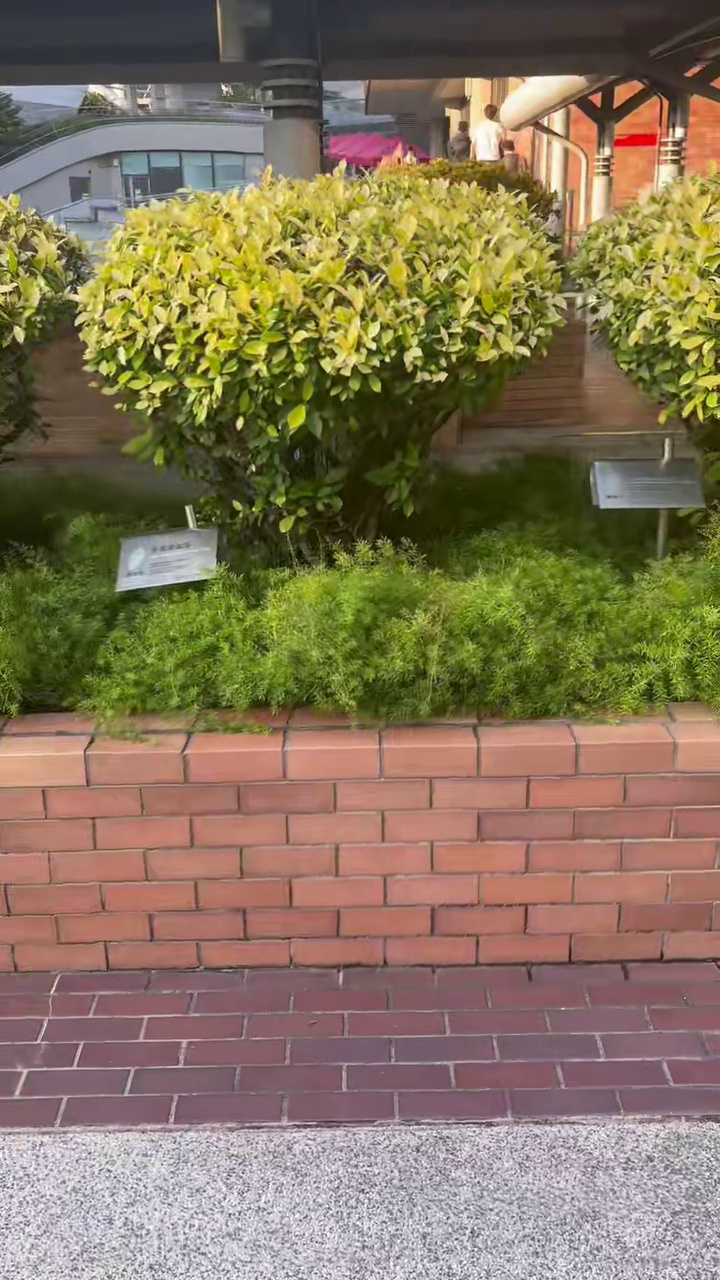Golden-leaves Fig: (77, 169, 561, 547)
